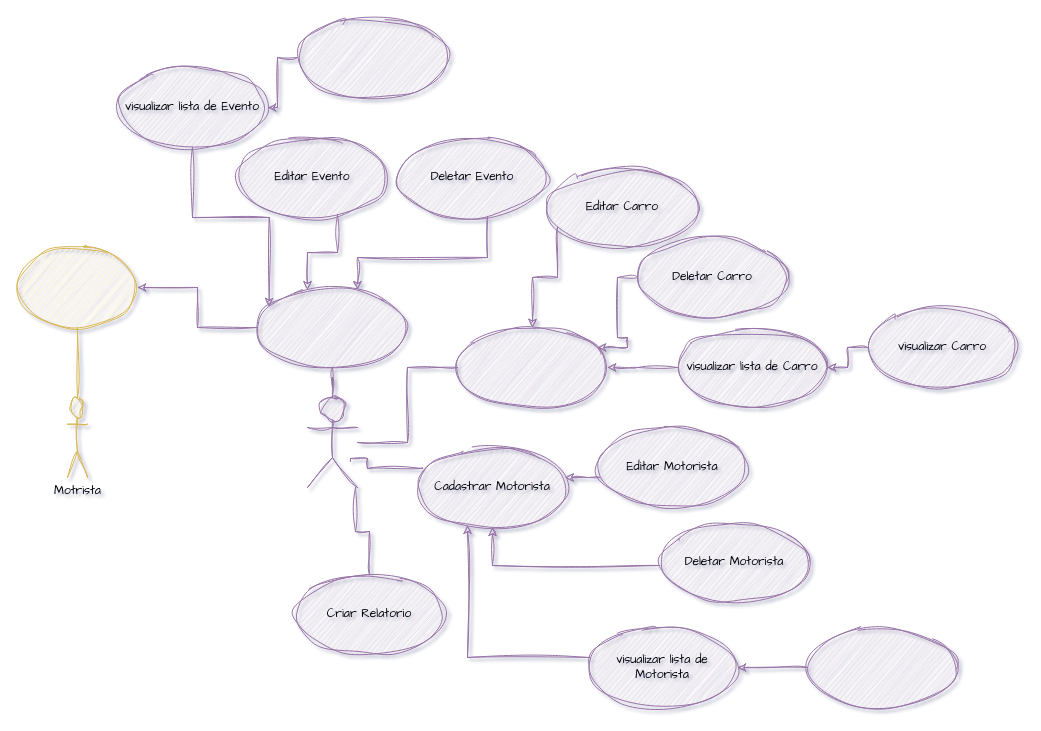
This 1041x731 diagram has some shape labels left out. Here are the shapes that lost their labels. From the top down, the centre of each, then its label:
At (372,57): "visualizar Evento".
At (77,287): "Solicitar Evento".
At (332,327): "Gerar Evento".
At (532,367): "Cadastrar Carro".
At (332,442): "Gestor".
At (882,667): "visualizar Motorista".
